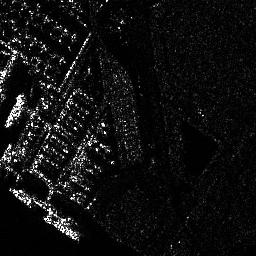ship: (42, 216, 81, 241), (4, 94, 23, 127), (9, 188, 32, 206)
